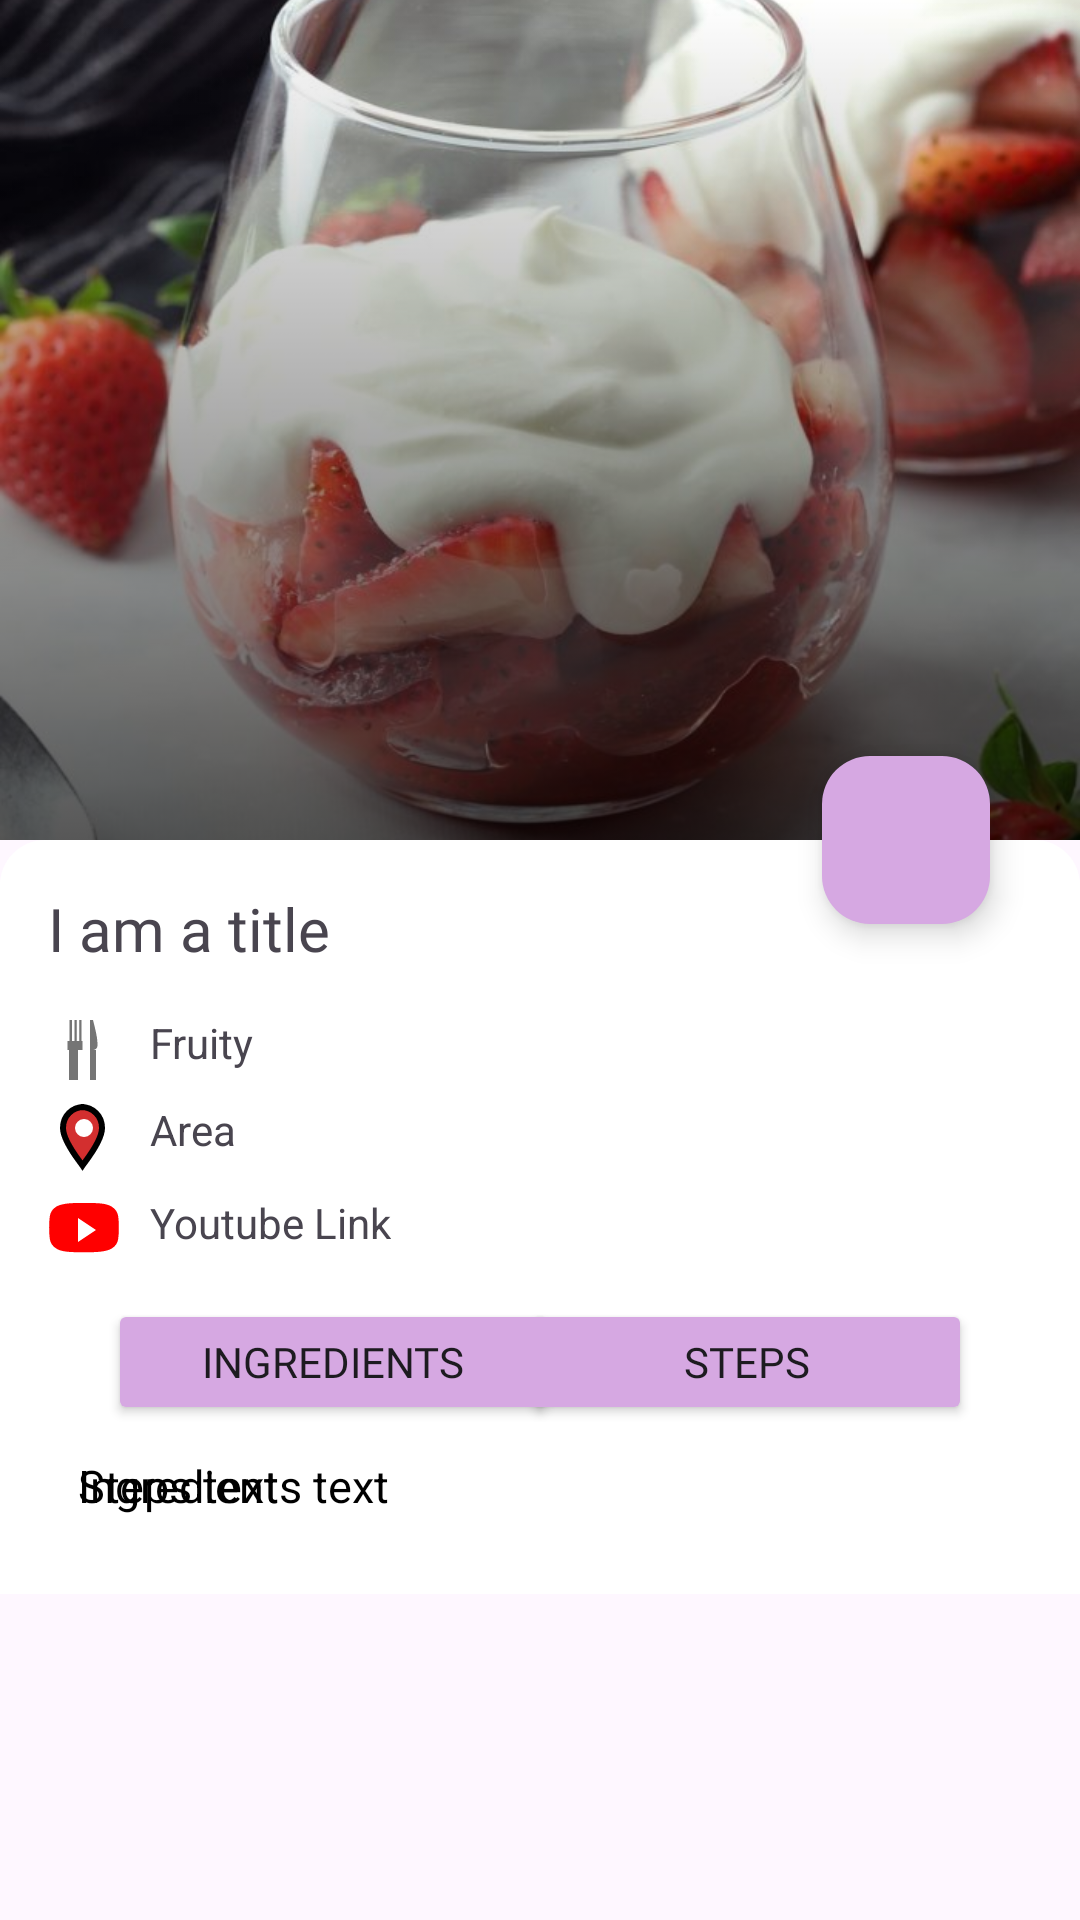

Named icons in this screenshot (1080 × 1920) and their bounding boxes, {"left": x1, "top": y1, "right": x2, "bottom": y2}:
meal: {"left": 67, "top": 1020, "right": 98, "bottom": 1080}
